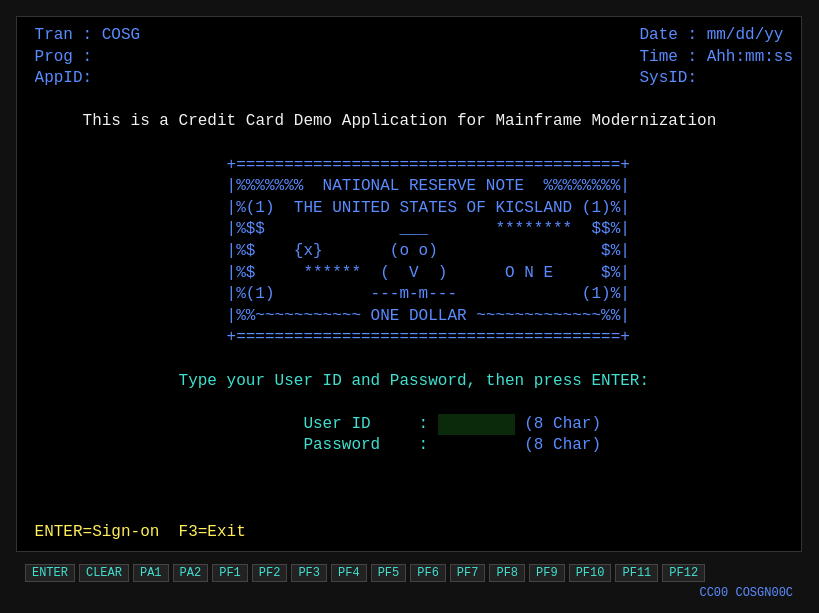
Test case: buildFields › clears inputs the same-screen response sets to an empty string
This screenshot has width=819, height=613.
In the field named "USERID": (476, 425) [438,414,515,435], type "USER0001"
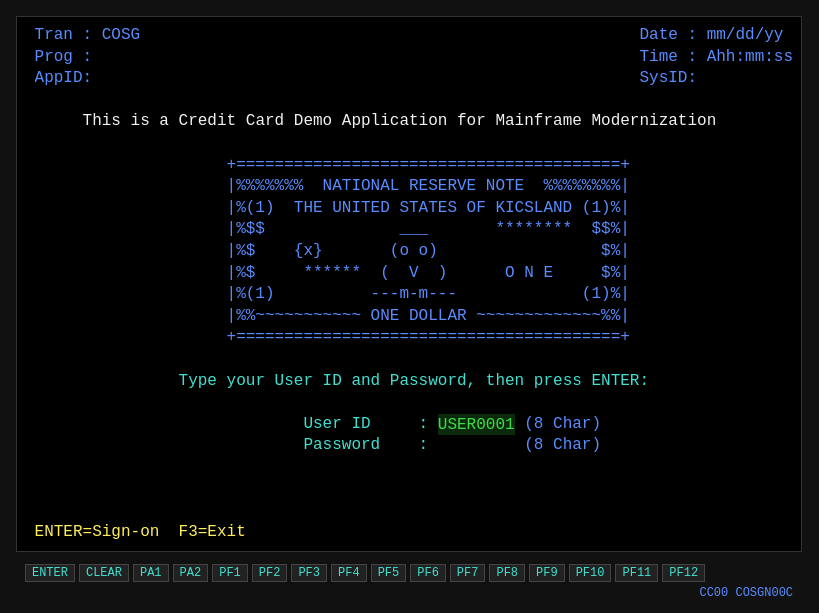
Press F4 in the field named "USERID", box [438,414,515,435]
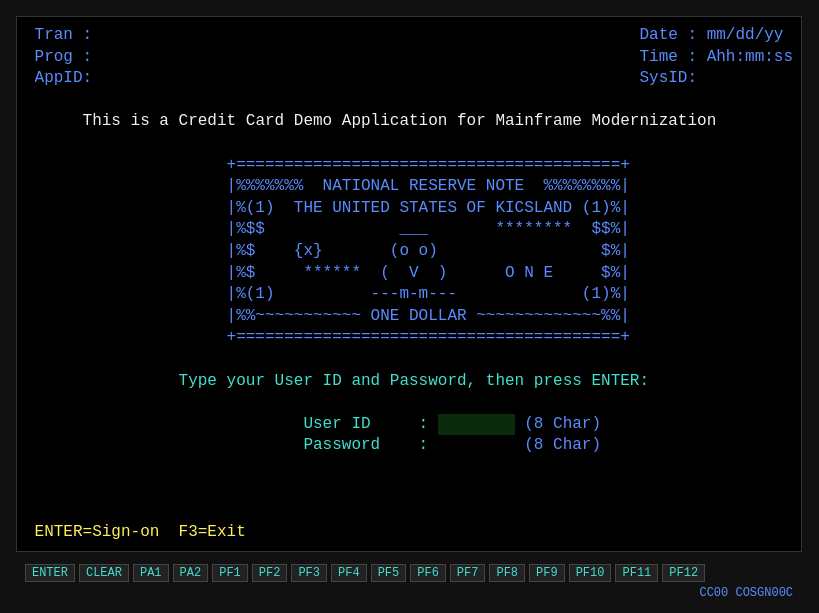
Result: the field named "USERID" is empty at [438,414,515,435]
